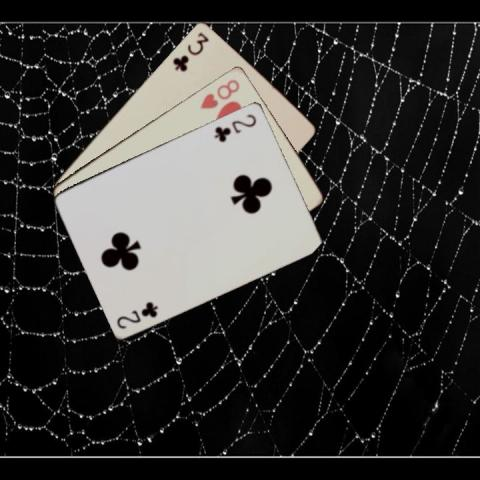2c: (211, 111, 258, 143), (114, 298, 160, 330)
3c: (169, 29, 211, 73)
8h: (197, 75, 241, 110)
